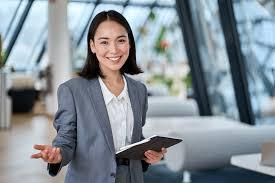person: (89, 4, 135, 77)
